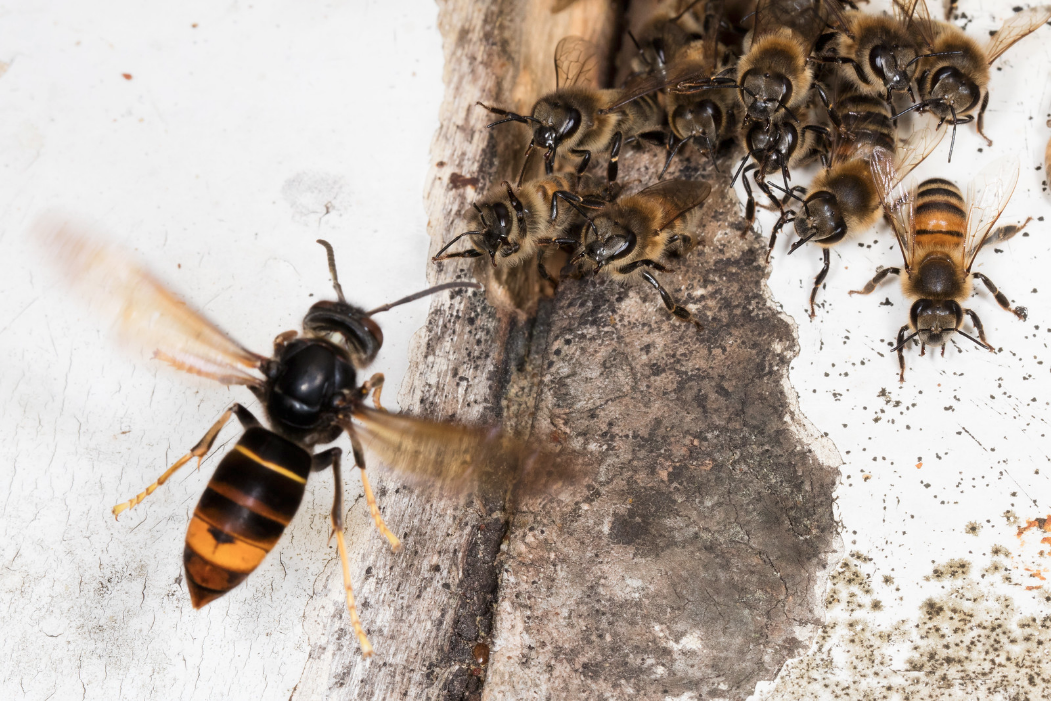bee: (566, 159, 729, 305), (789, 81, 897, 266), (886, 14, 1016, 144), (882, 184, 981, 354), (722, 13, 821, 178), (516, 64, 668, 161), (458, 165, 583, 270), (656, 33, 742, 151)
hornet: (147, 249, 448, 652)
